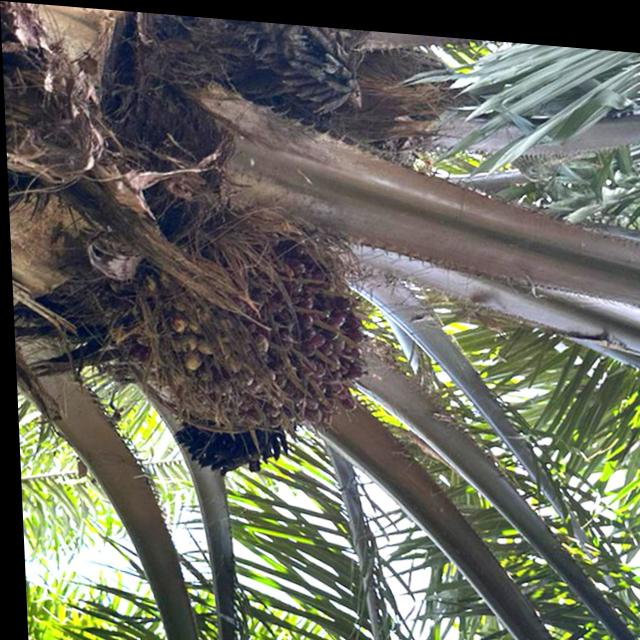ripe: (87, 167, 391, 472)
